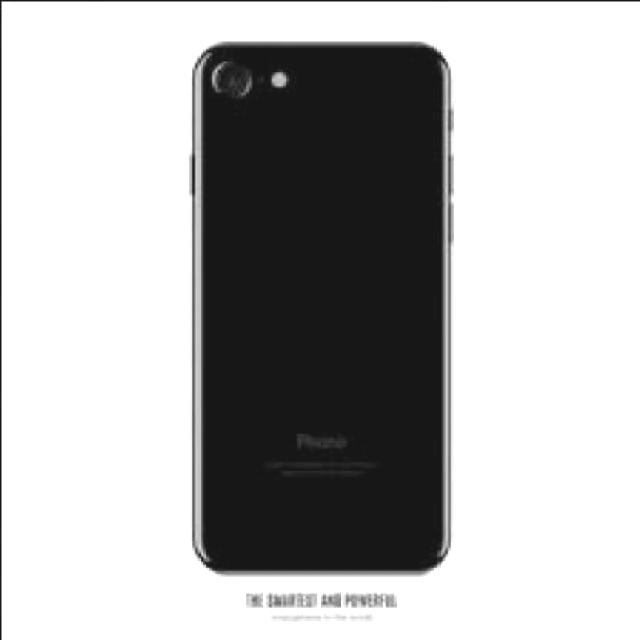fake: (190, 40, 450, 572)
